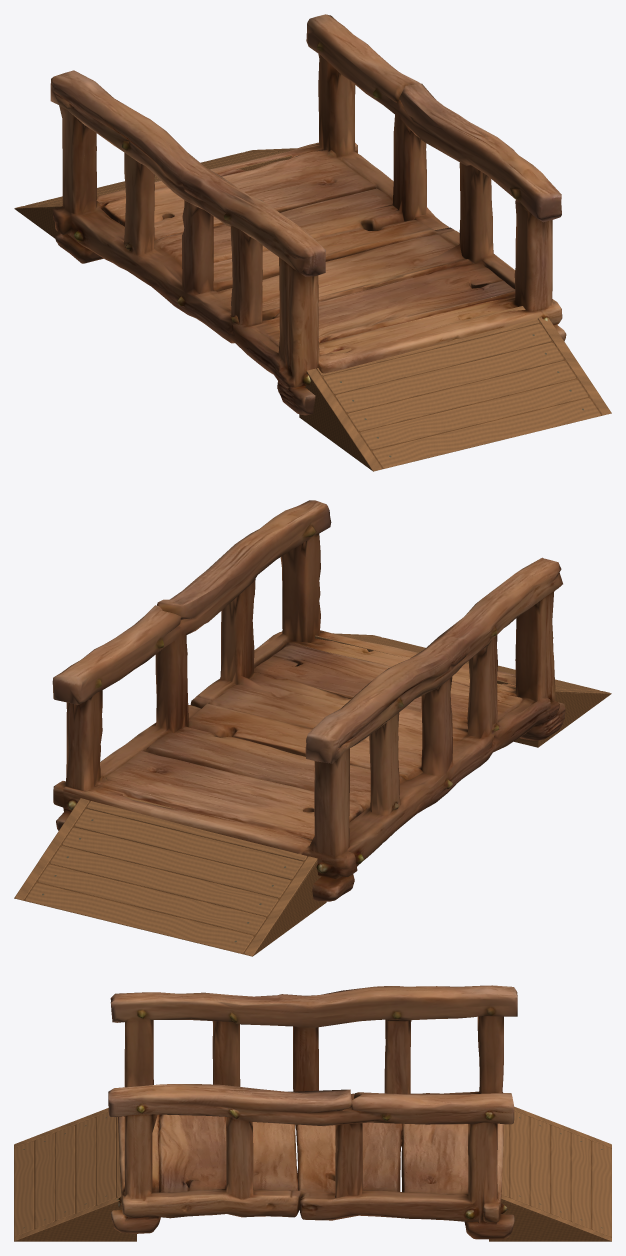
Rendered from bridge.glb.
The picture shows the model from 3 angles, top to bottom: view 1: azimuth 30°, elevation 25°; view 2: azimuth 150°, elevation 25°; view 3: azimuth 270°, elevation 25°; orthographic projection. The views are drawn at different scales.
Visible parts, largest first — view 1: tripo_node_eeeb3a3d-eb25-41a7-8d65-0f94f6969ecf, CrossPlanks, RampBacking, FlushSideTrim; view 2: tripo_node_eeeb3a3d-eb25-41a7-8d65-0f94f6969ecf, CrossPlanks, RampBacking, FlushSideTrim; view 3: tripo_node_eeeb3a3d-eb25-41a7-8d65-0f94f6969ecf, CrossPlanks, RampBacking, FlushSideTrim.
Part boxes in pixels (<box>): tripo_node_eeeb3a3d-eb25-41a7-8d65-0f94f6969ecf: <box>50,14,566,415</box>; CrossPlanks: <box>25,150,600,468</box>; RampBacking: <box>14,156,611,471</box>; FlushSideTrim: <box>15,148,610,471</box>; tripo_node_eeeb3a3d-eb25-41a7-8d65-0f94f6969ecf: <box>52,500,565,901</box>; CrossPlanks: <box>25,635,600,953</box>; RampBacking: <box>14,636,611,956</box>; FlushSideTrim: <box>14,633,610,956</box>; tripo_node_eeeb3a3d-eb25-41a7-8d65-0f94f6969ecf: <box>108,985,517,1239</box>; CrossPlanks: <box>14,1111,611,1236</box>; RampBacking: <box>14,1116,611,1241</box>; FlushSideTrim: <box>14,1106,611,1240</box>.
Size of the model in its own units: 0.3507 by 0.2073 by 0.73.
4 materials, 3 textured.
